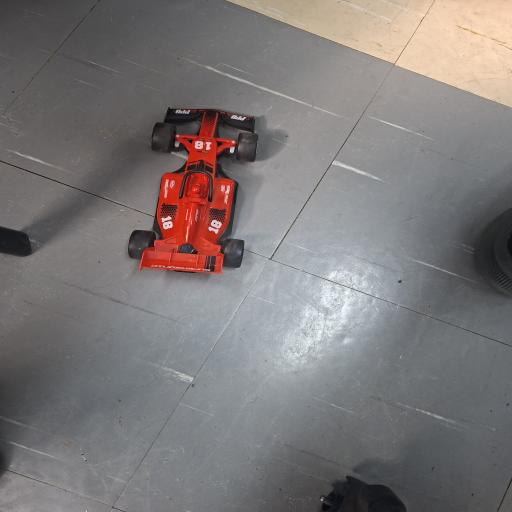carro: (118, 100, 266, 276)
